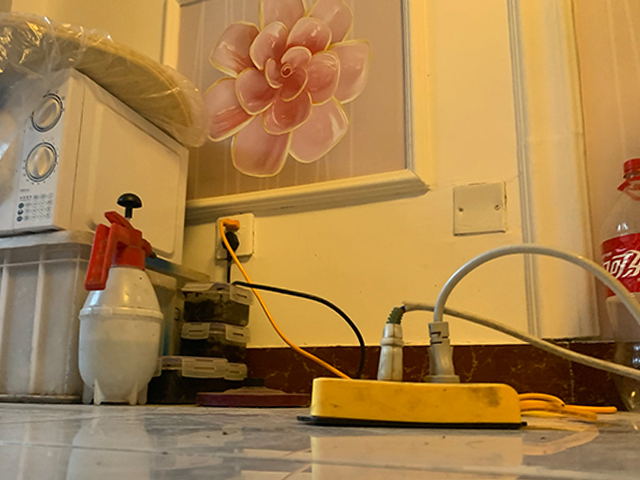wire: (220, 218, 640, 426)
